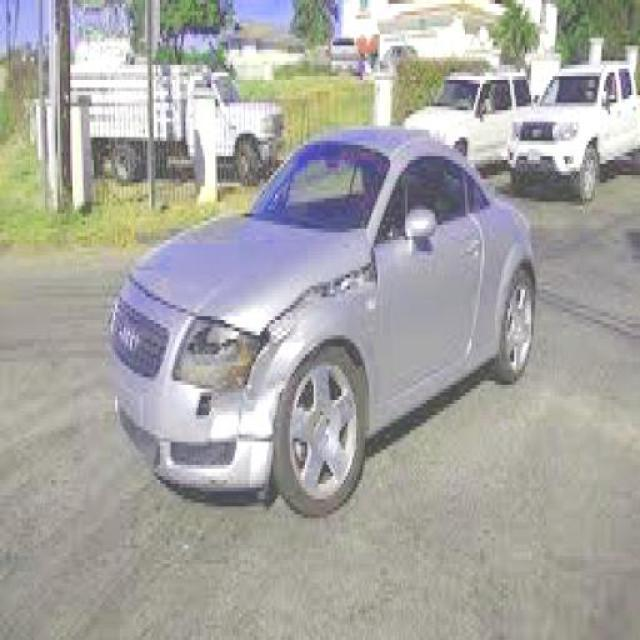car damage: (169, 246, 383, 444)
